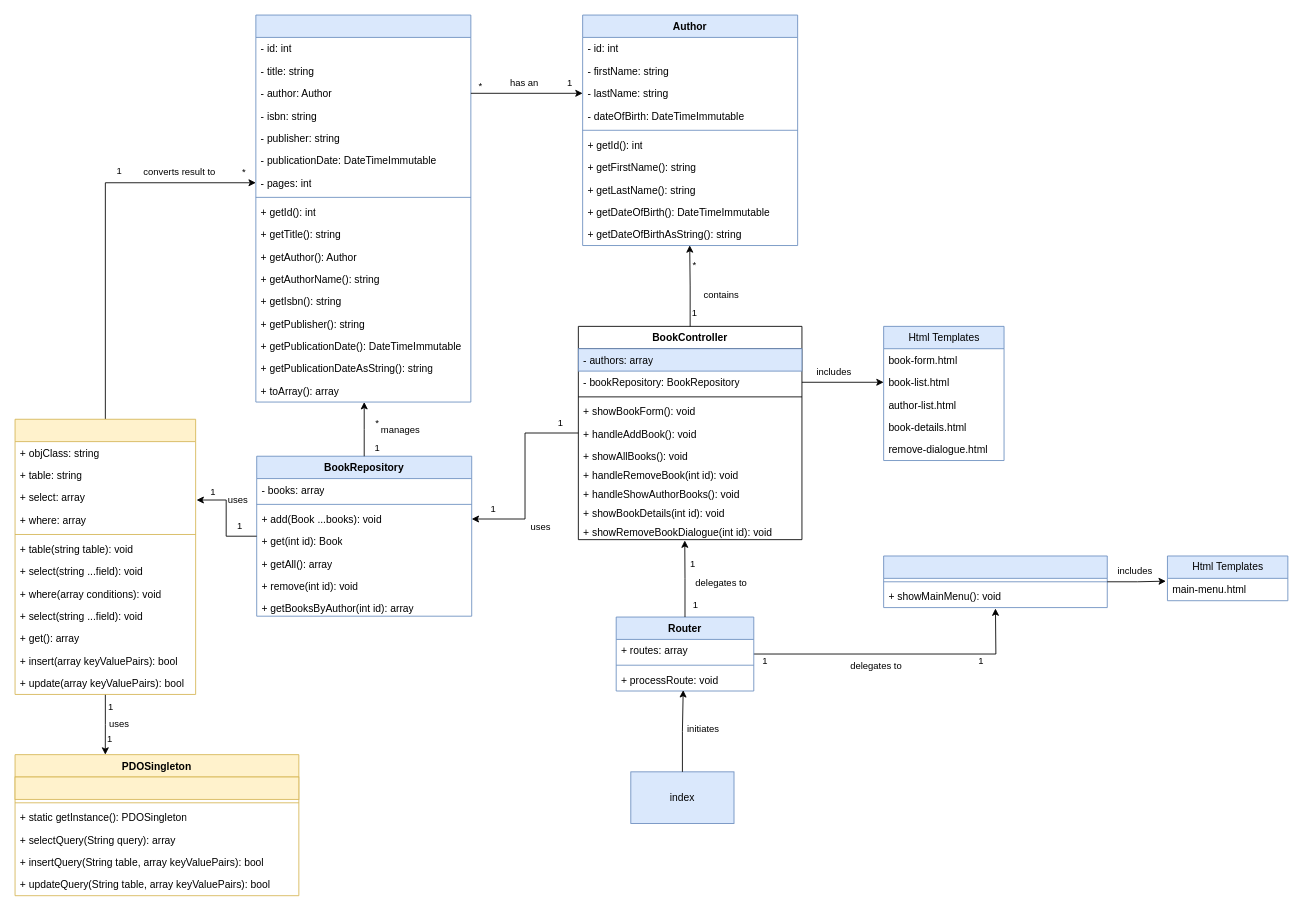
The diagram is 1303 pixels wide and 913 high, and some of its shapes have lost their labels. Each missing label, with the box of its shape:
+ static instance: PDOSingleton: (14, 776, 299, 799)
Book: (255, 14, 471, 402)
MainController: (883, 555, 1107, 608)
QueryBuilder: (14, 418, 196, 694)
